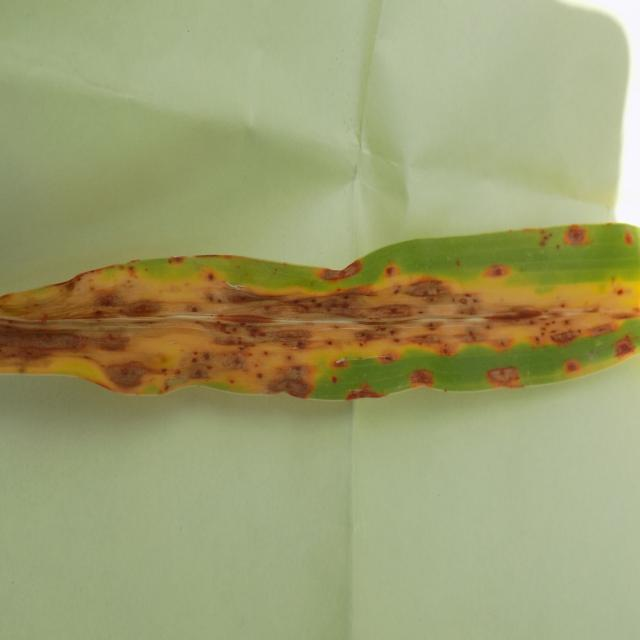millet_rust: (0, 178, 640, 409)
